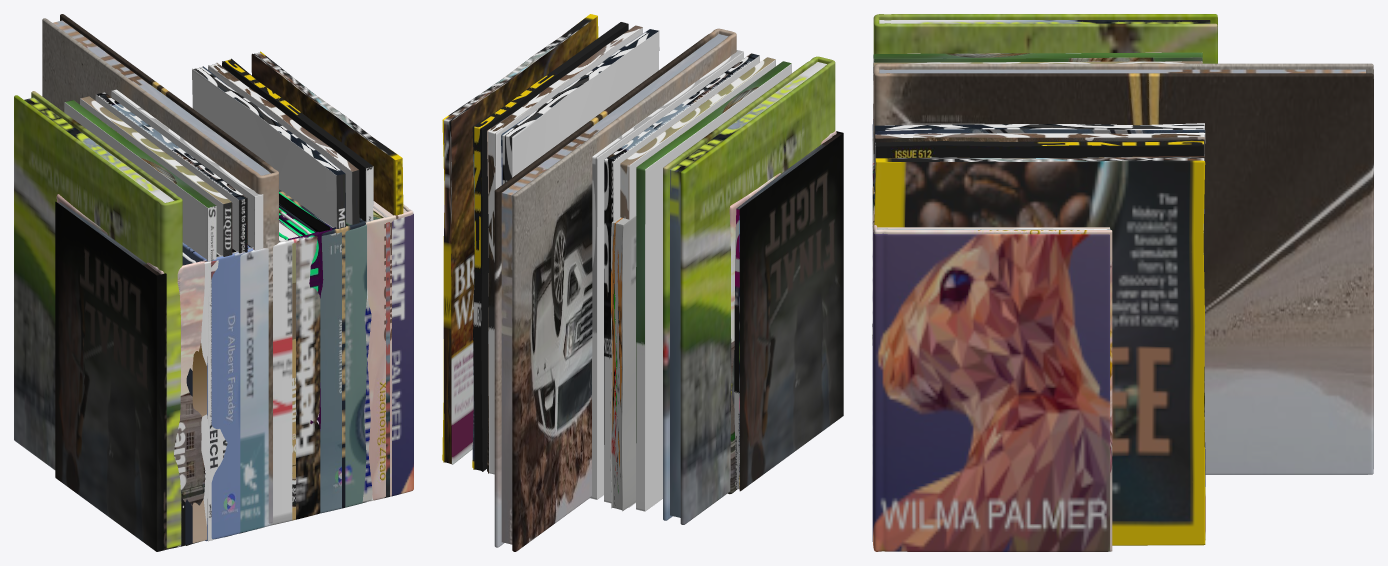
The model's file is book_rows.glb.
3 views of the same model, side by side, from view 1: azimuth 30°, elevation 25°; view 2: azimuth 150°, elevation 25°; view 3: azimuth 270°, elevation 25° (orthographic). The views are drawn at different scales.
Parts seen in each view (by area): view 1: book_row_5, book_row_7, book_row_0, book_row_3, book_row_2, book_row_6, book_row_1; view 2: book_row_0, book_row_7, book_row_5, book_row_3, book_row_2, book_row_6, book_row_4, book_row_1; view 3: book_row_0, book_row_5, book_row_6, book_row_7, book_row_2, book_row_3.
Part boxes in pixels (left/top/right/bottom): book_row_5: left=55, top=201, right=413, bottom=551; book_row_7: left=14, top=91, right=403, bottom=548; book_row_0: left=42, top=14, right=413, bottom=550; book_row_3: left=64, top=89, right=341, bottom=541; book_row_2: left=182, top=58, right=373, bottom=541; book_row_6: left=216, top=51, right=403, bottom=502; book_row_1: left=56, top=193, right=333, bottom=548; book_row_0: left=494, top=28, right=842, bottom=551; book_row_7: left=663, top=56, right=835, bottom=524; book_row_5: left=736, top=131, right=843, bottom=491; book_row_3: left=590, top=50, right=791, bottom=511; book_row_2: left=472, top=21, right=659, bottom=474; book_row_6: left=442, top=14, right=598, bottom=464; book_row_4: left=610, top=215, right=636, bottom=511; book_row_1: left=728, top=130, right=836, bottom=494; book_row_0: left=872, top=63, right=1373, bottom=551; book_row_5: left=872, top=137, right=1109, bottom=551; book_row_6: left=874, top=156, right=1205, bottom=545; book_row_7: left=872, top=14, right=1217, bottom=229; book_row_2: left=872, top=119, right=1205, bottom=447; book_row_3: left=873, top=52, right=1202, bottom=146.
Bounding box in the file's own units: 0.218 × 0.2841 × 0.3199.
48 materials, 48 textured.
